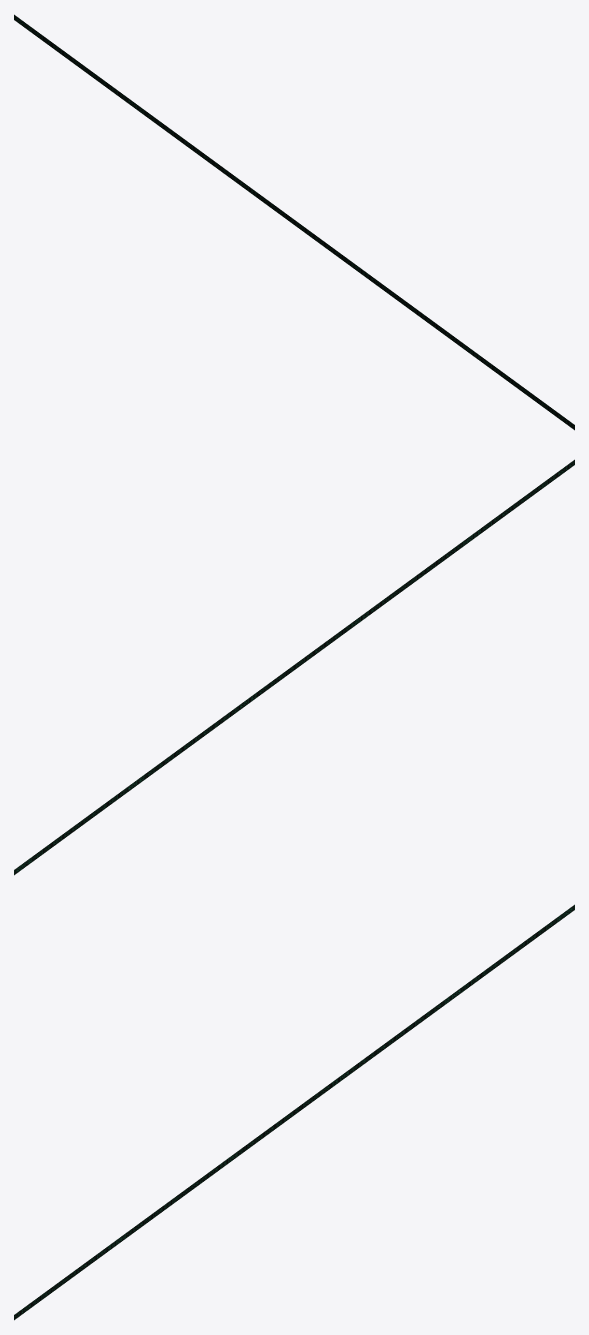
File: pattern1.glb
3 renders of one model, top to bottom at view 1: azimuth 30°, elevation 25°; view 2: azimuth 150°, elevation 25°; view 3: azimuth 330°, elevation 25°, orthographic.
Visible parts, largest first — view 1: Plane; view 2: Plane; view 3: Plane.
Part boxes in pixels (left/top/right/bottom): Plane: left=14, top=14, right=574, bottom=430; Plane: left=14, top=459, right=574, bottom=875; Plane: left=14, top=904, right=574, bottom=1320.
Size of the model in its own units: 0 by 0.1205 by 22.39.
Materials: 1 (1 with a texture image).
